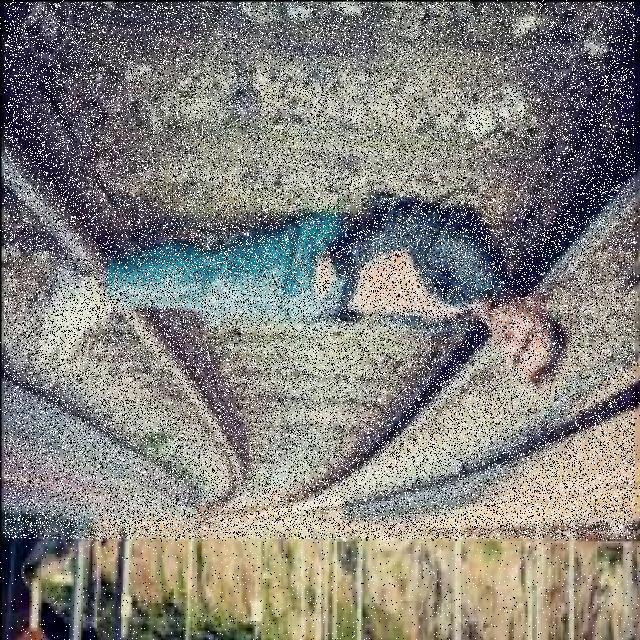rail: (6, 3, 636, 540)
